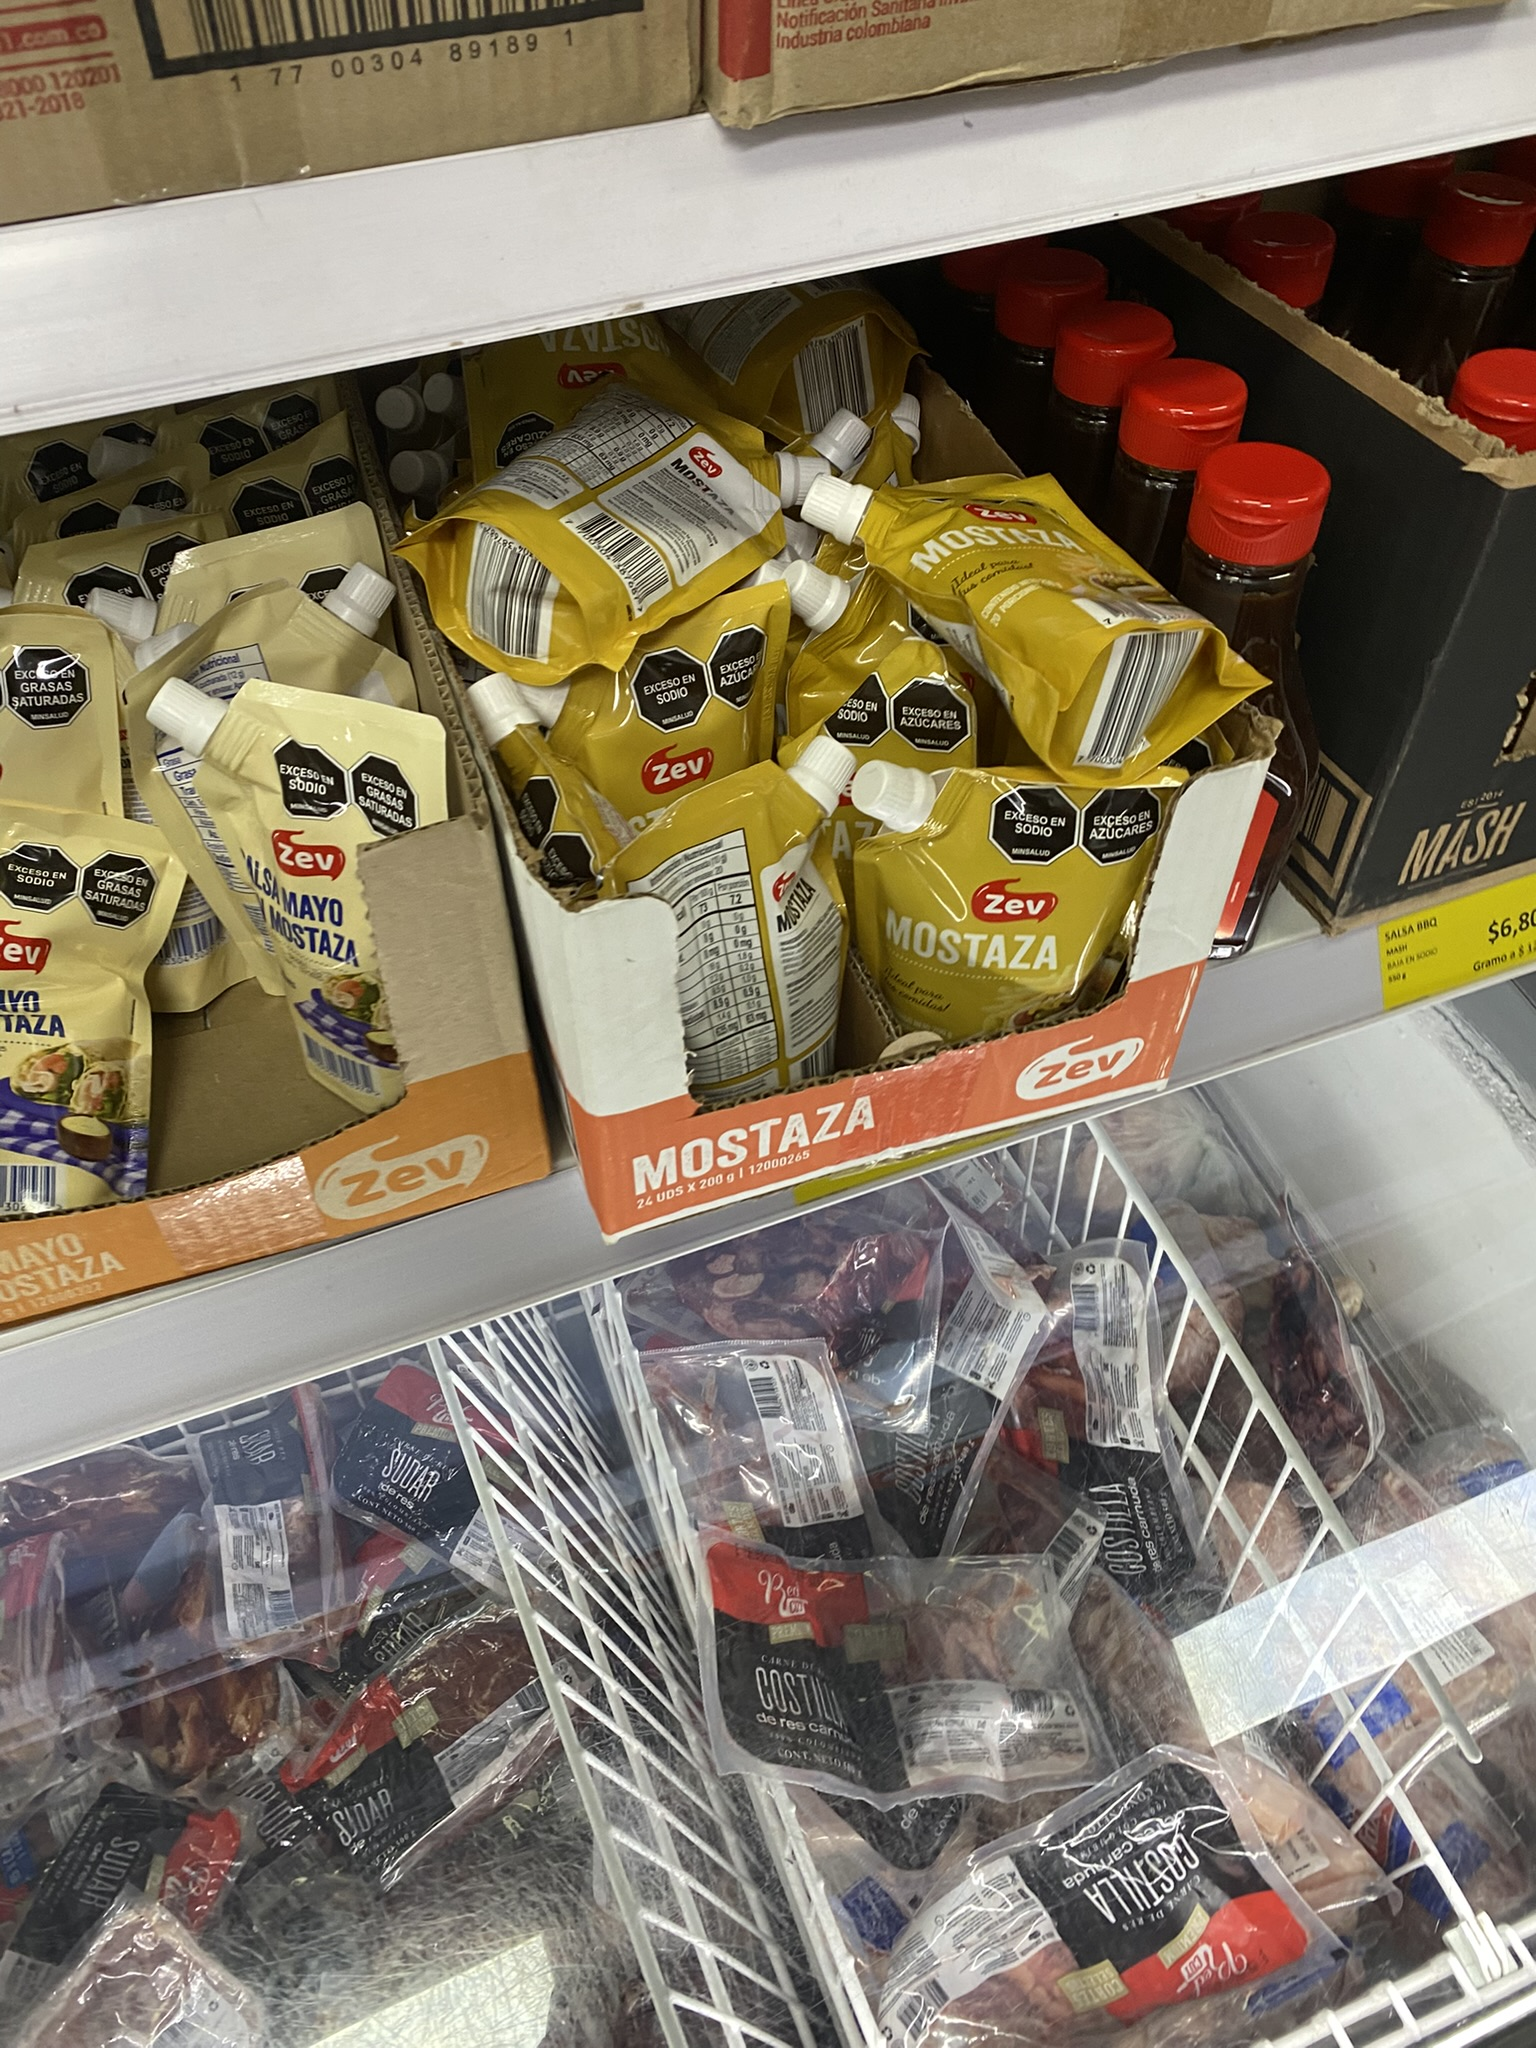Mostaza: (803, 442, 1296, 758), (863, 734, 1217, 1047), (603, 721, 858, 1134), (363, 403, 776, 655), (495, 671, 816, 821)
